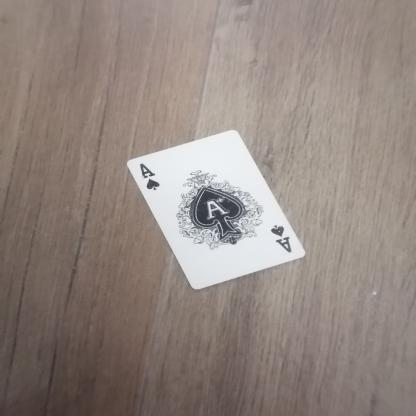AS: (266, 223, 296, 258), (136, 160, 160, 196)
